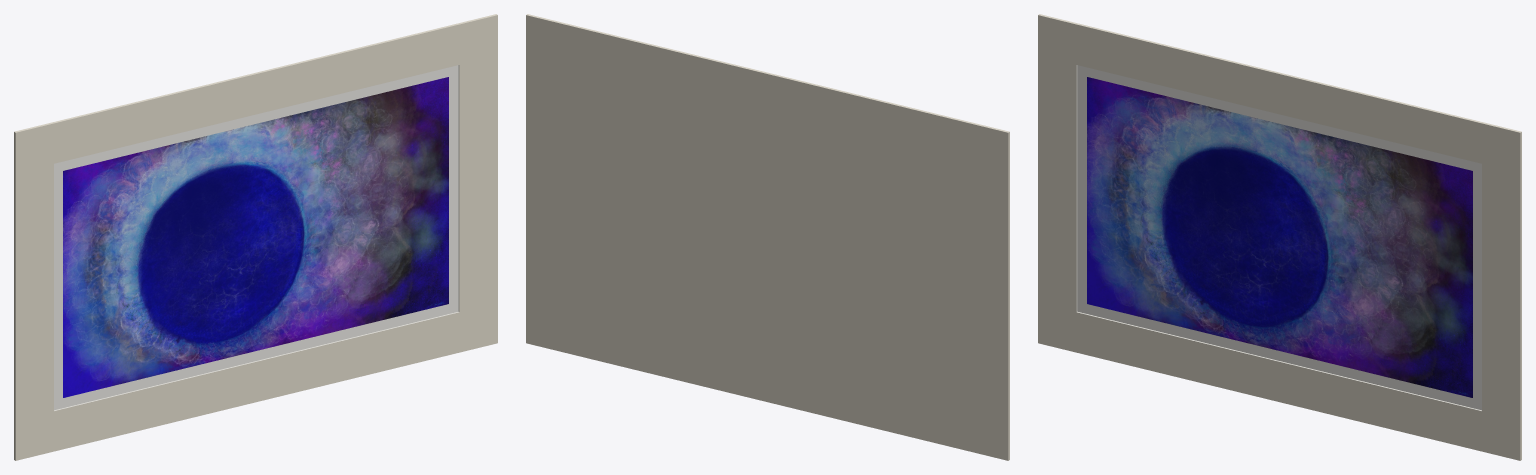
Rendered from hz016_moyen_passe-partout.glb.
The picture shows the model from 3 angles, left to right: view 1: azimuth 30°, elevation 25°; view 2: azimuth 150°, elevation 25°; view 3: azimuth 330°, elevation 25°; orthographic projection.
Parts seen in each view (by area): view 1: hz016_moyen_passe-partout; view 2: hz016_moyen_passe-partout; view 3: hz016_moyen_passe-partout.
Part boxes in pixels (x1,y1,x2,y2): hz016_moyen_passe-partout: (14,14,497,460); hz016_moyen_passe-partout: (526,14,1009,460); hz016_moyen_passe-partout: (1038,14,1521,460).
Size of the model in its own units: 1 by 0.65 by 0.0055.
Materials: 4 (1 with a texture image).
